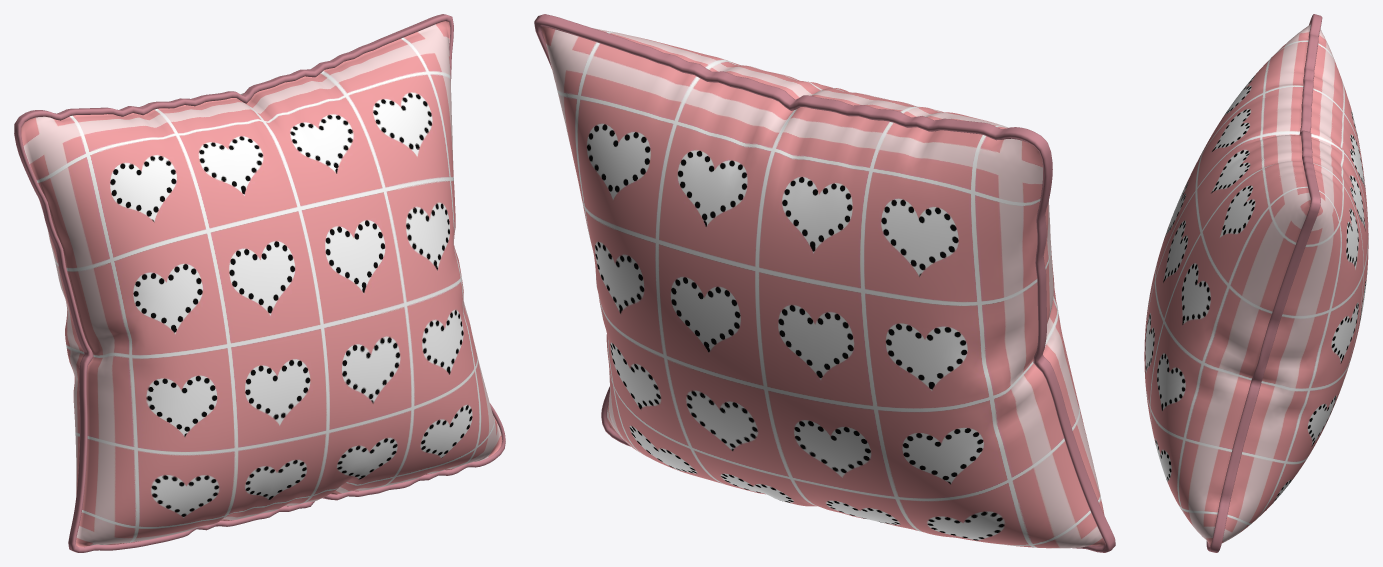
The picture shows the model from 3 angles, left to right: view 1: azimuth 30°, elevation 25°; view 2: azimuth 150°, elevation 25°; view 3: azimuth 270°, elevation 25°; orthographic projection. The views are drawn at different scales.
Visible parts, largest first — view 1: Obj3d66-18121221-7-640, Obj3d66-18121221-8-730; view 2: Obj3d66-18121221-7-640, Obj3d66-18121221-8-730; view 3: Obj3d66-18121221-7-640, Obj3d66-18121221-8-730.
Part boxes in pixels (x1=…): Obj3d66-18121221-7-640: x1=21, y1=21, x2=502, y2=547; Obj3d66-18121221-8-730: x1=14, y1=14, x2=505, y2=552; Obj3d66-18121221-7-640: x1=541, y1=26, x2=1104, y2=548; Obj3d66-18121221-8-730: x1=534, y1=14, x2=1115, y2=552; Obj3d66-18121221-7-640: x1=1144, y1=23, x2=1368, y2=546; Obj3d66-18121221-8-730: x1=1206, y1=14, x2=1322, y2=552.
Size of the model in its own units: 0.4843 by 0.4331 by 0.2412.
2 materials, 1 textured.
